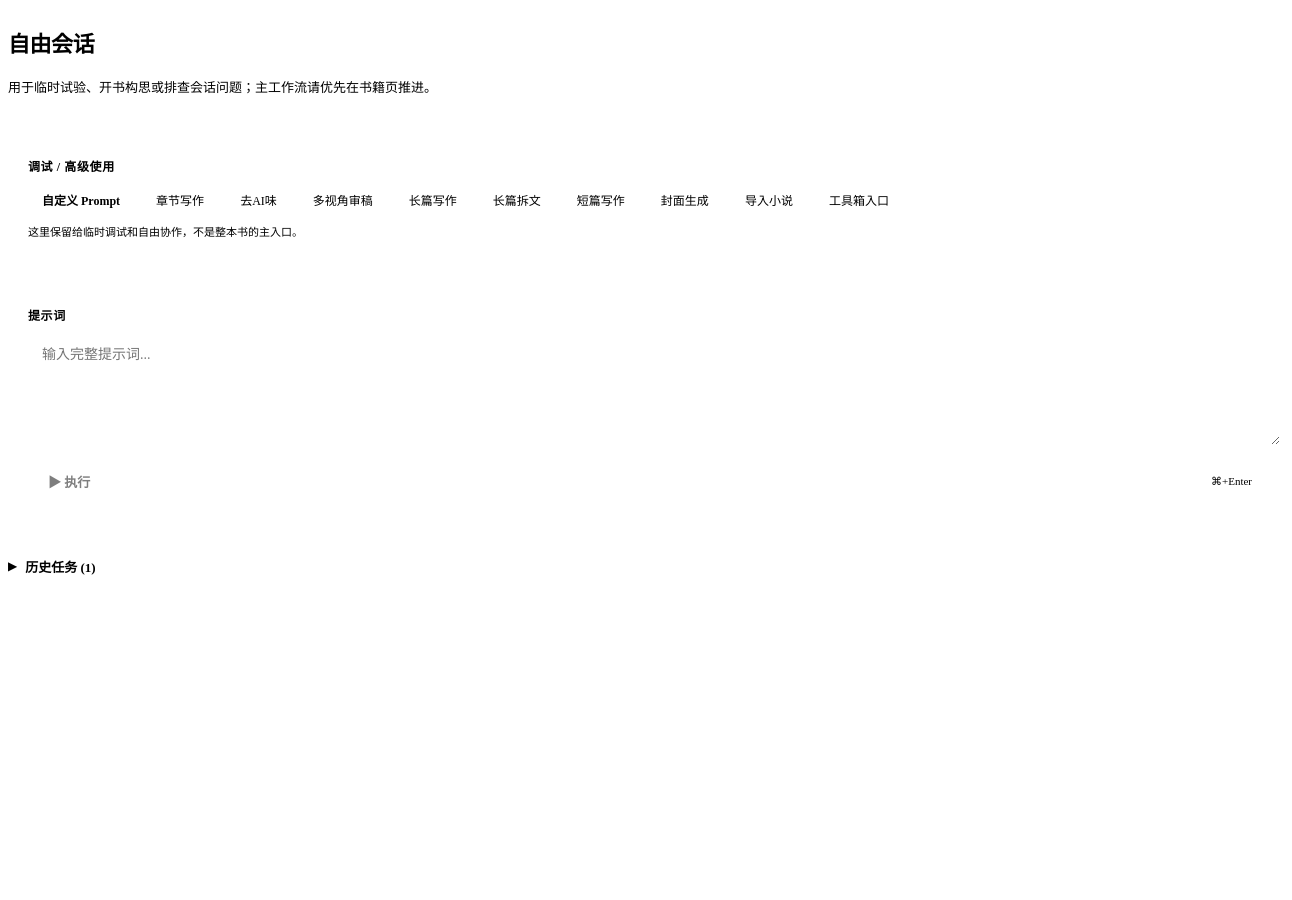
Scenario: PromptPage session model › does not render book-entry sessions in free chat history
Click the heading "历史任务 (1)".
click(60, 567)  # box [25,557,96,576]
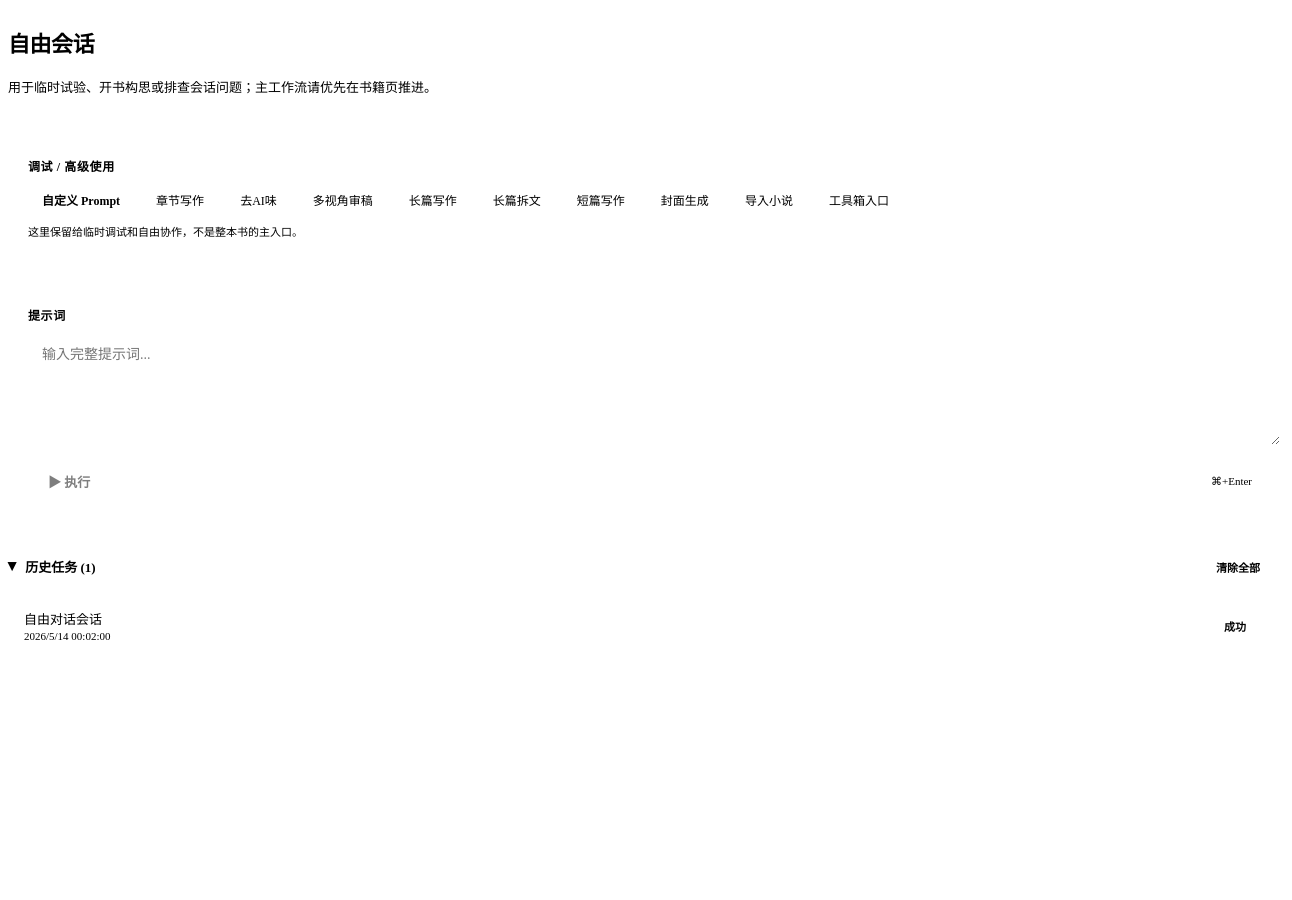
Expected: the text "自由对话会话" is shown, [24,612,102,627]
